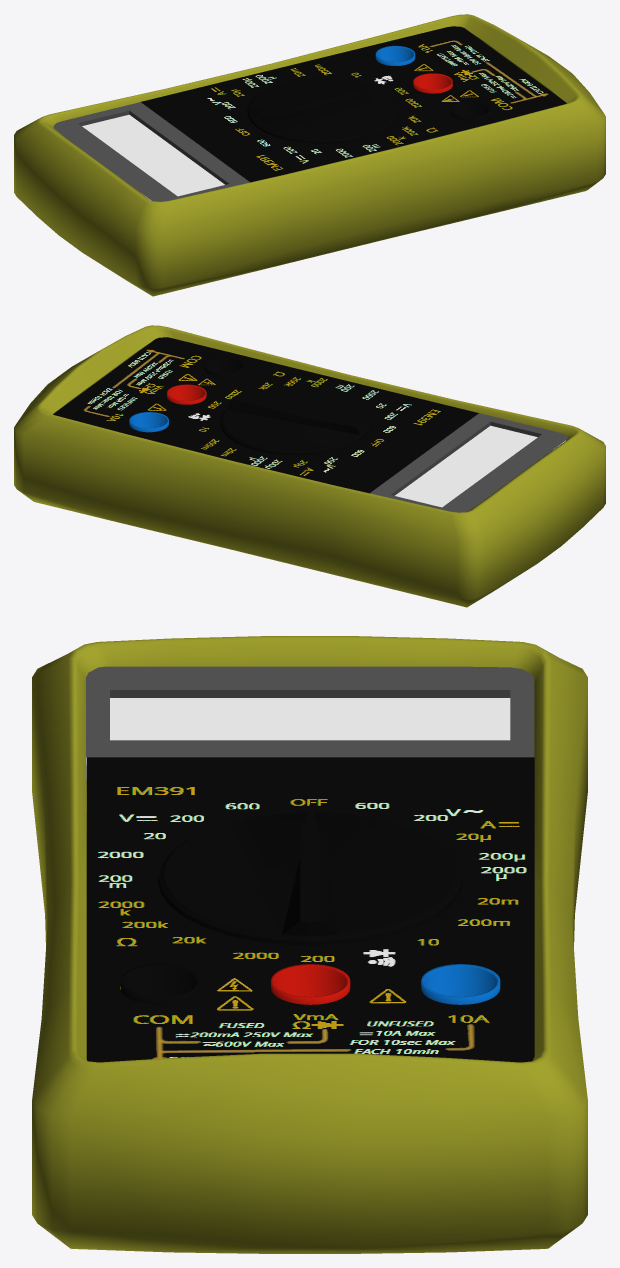
The model's file is Мультиметр.fbx.
3 views of the same model, one above another, from view 1: azimuth 30°, elevation 25°; view 2: azimuth 150°, elevation 25°; view 3: azimuth 270°, elevation 25° (orthographic). The views are drawn at different scales.
Visible parts, largest first — view 1: Корпус.018, Лицевая панель, Выбор режима, Рамка стекла, Стекло экрана, Чёрный пин, Красный пин, Синий пин; view 2: Корпус.018, Лицевая панель, Выбор режима, Рамка стекла, Стекло экрана, Красный пин, Чёрный пин, Синий пин; view 3: Корпус.018, Лицевая панель, Выбор режима, Рамка стекла, Стекло экрана, Чёрный пин, Синий пин, Красный пин.
Part boxes in pixels (left/top/right/bottom): Корпус.018: left=14, top=14, right=605, bottom=296; Лицевая панель: left=141, top=26, right=566, bottom=182; Выбор режима: left=247, top=77, right=399, bottom=144; Рамка стекла: left=53, top=102, right=249, bottom=201; Стекло экрана: left=82, top=114, right=224, bottom=200; Чёрный пин: left=450, top=100, right=490, bottom=121; Красный пин: left=413, top=73, right=452, bottom=93; Синий пин: left=375, top=45, right=415, bottom=65; Корпус.018: left=14, top=325, right=605, bottom=607; Лицевая панель: left=53, top=337, right=478, bottom=493; Выбор режима: left=220, top=388, right=372, bottom=455; Рамка стекла: left=370, top=413, right=567, bottom=512; Стекло экрана: left=395, top=425, right=565, bottom=507; Красный пин: left=167, top=384, right=206, bottom=404; Чёрный пин: left=204, top=357, right=243, bottom=377; Синий пин: left=129, top=412, right=168, bottom=432; Корпус.018: left=32, top=636, right=587, bottom=1253; Лицевая панель: left=86, top=757, right=534, bottom=1062; Выбор режима: left=158, top=802, right=463, bottom=945; Рамка стекла: left=86, top=666, right=534, bottom=757; Стекло экрана: left=86, top=698, right=510, bottom=779; Чёрный пин: left=120, top=964, right=199, bottom=1004; Синий пин: left=421, top=964, right=500, bottom=1004; Красный пин: left=271, top=964, right=350, bottom=1004.
Bounding box in the file's own units: 0.1425 × 0.0285 × 0.07.
